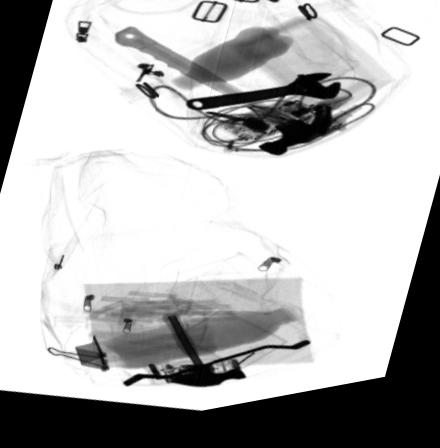Hammer: (110, 30, 332, 166), (141, 319, 246, 394)
Wrench: (122, 350, 309, 392), (187, 85, 340, 118)
